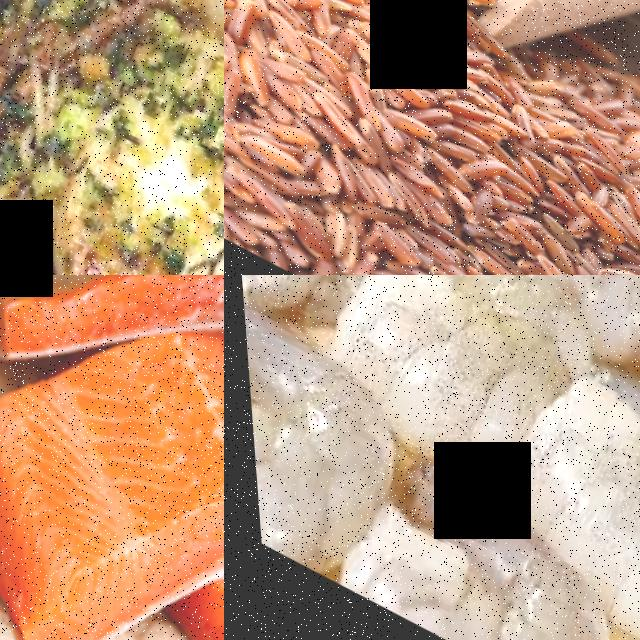red rice: (224, 0, 640, 275)
salmon: (0, 275, 224, 640)
spinach: (331, 455, 639, 640), (239, 302, 419, 588), (316, 275, 597, 454), (490, 338, 640, 640)
